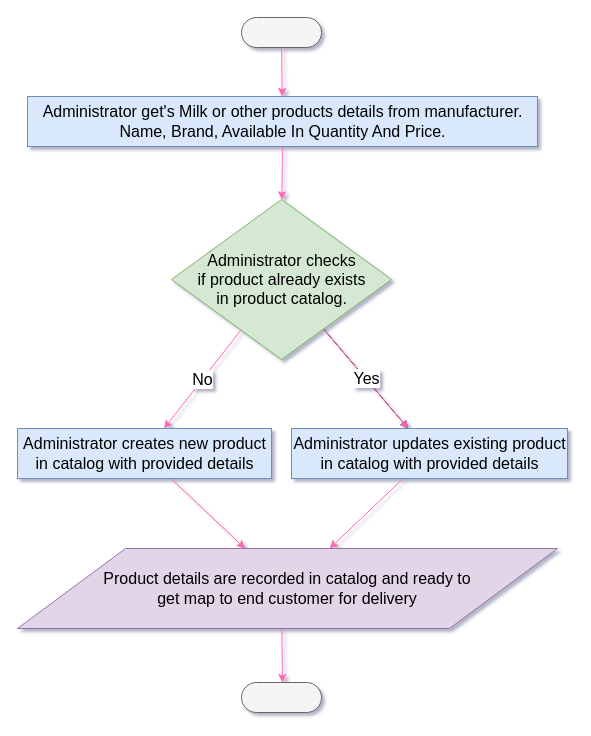
The diagram is 591 pixels wide and 736 high, and some of its shapes have lost their labels. Here are the shapes that lost their labels. From the top down, the box of each, then its label:
(240, 16, 322, 48): Start
(240, 682, 322, 712): Finish
